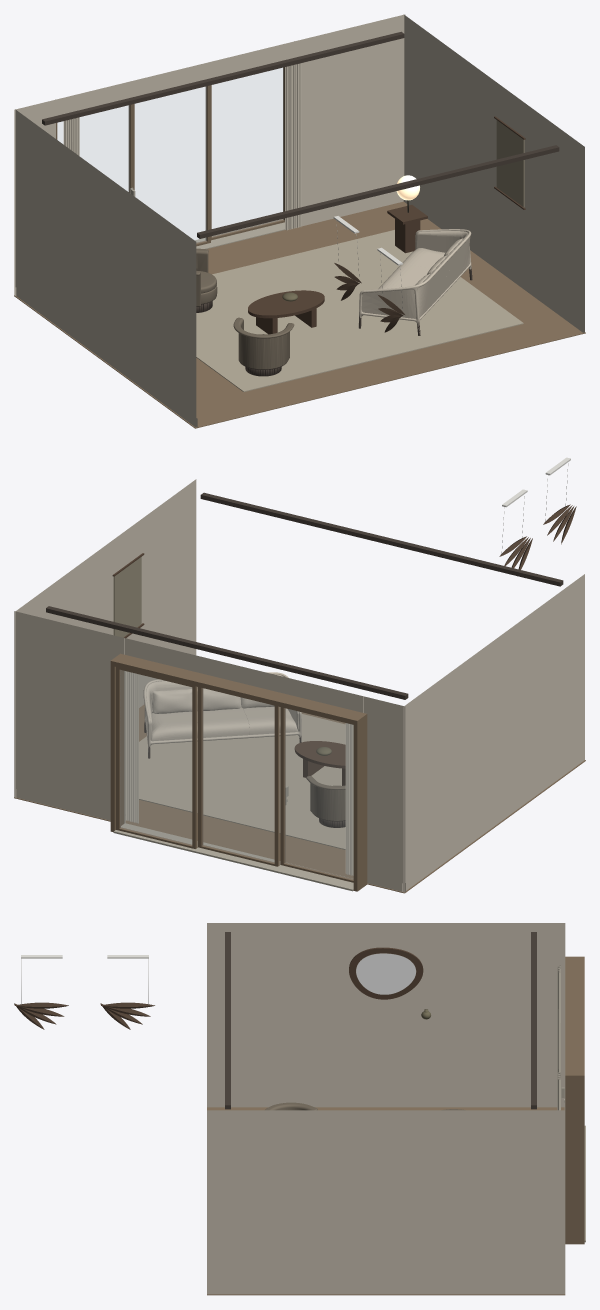
Rendered from great-1.glb.
3 renders of one model, top to bottom at view 1: azimuth 30°, elevation 25°; view 2: azimuth 150°, elevation 25°; view 3: azimuth 270°, elevation 25°, orthographic.
Visible parts, largest first — view 1: DESIGN | great removable wall finish, DESIGN | Great room primary ground, DESIGN | great floor finish, DESIGN | R10 lift-slide panel 3 glass, DESIGN | R10 lift-slide panel 2 glass, DESIGN | Great room sofa facing conversation, DESIGN | R10 lift-slide panel 1 glass, DESIGN | Retreat concealed light edge, DESIGN | Retreat concealed light edge.001, DESIGN | Great room soft window edge.001, DESIGN | Required Bellustar swivel chair one, DESIGN | Great room linen hanging (+6 smaller); view 2: DESIGN | great removable wall finish, DESIGN | Great room primary ground, DESIGN | R10 lift-slide panel 3 glass, DESIGN | R10 lift-slide panel 2 glass, DESIGN | R10 lift-slide panel 1 glass, DESIGN | Great room sofa facing conversation, DESIGN | great floor finish, DESIGN | R10 garden opening head, DESIGN | Retreat concealed light edge, DESIGN | Retreat concealed light edge.001, DESIGN | R10 garden opening jamb, DESIGN | R10 drained garden sill (+12 smaller); view 3: DESIGN | great removable wall finish, DESIGN | R10 garden opening jamb.001, DESIGN | R10 garden opening head, DESIGN | R10 Giolino study reflective surface, DESIGN | great floor finish, DESIGN | R10 Giolino-inspired walnut frame, DESIGN | Retreat concealed light edge, DESIGN | Retreat concealed light edge.001, DESIGN | Required Flou pendant 1, DESIGN | Required Flou pendant 2.
Part boxes in pixels (x1,y1,x2,y2): DESIGN | great removable wall finish: (14,14,584,427); DESIGN | Great room primary ground: (196,230,523,391); DESIGN | great floor finish: (14,201,585,428); DESIGN | R10 lift-slide panel 3 glass: (212,68,283,236); DESIGN | R10 lift-slide panel 2 glass: (135,86,206,242); DESIGN | Great room sofa facing conversation: (358,229,472,335); DESIGN | R10 lift-slide panel 1 glass: (57,105,129,192); DESIGN | Retreat concealed light edge: (197,145,559,238); DESIGN | Retreat concealed light edge.001: (42,31,404,125); DESIGN | Great room soft window edge.001: (285,63,301,230); DESIGN | Required Bellustar swivel chair one: (233,317,294,376); DESIGN | Great room linen hanging: (496,120,524,207); DESIGN | great removable wall finish: (14,479,584,892); DESIGN | Great room primary ground: (139,714,345,849); DESIGN | R10 lift-slide panel 3 glass: (120,670,191,845); DESIGN | R10 lift-slide panel 2 glass: (203,688,274,862); DESIGN | R10 lift-slide panel 1 glass: (285,708,353,879); DESIGN | Great room sofa facing conversation: (143,672,301,758); DESIGN | great floor finish: (14,704,585,893); DESIGN | R10 garden opening head: (110,653,367,725); DESIGN | Retreat concealed light edge: (200,492,563,586); DESIGN | Retreat concealed light edge.001: (46,606,408,699); DESIGN | R10 garden opening jamb: (353,716,367,891); DESIGN | R10 drained garden sill: (113,823,353,891); DESIGN | great removable wall finish: (207,923,565,1294); DESIGN | R10 garden opening jamb.001: (565,1077,584,1244); DESIGN | R10 garden opening head: (565,956,584,1080); DESIGN | R10 Giolino study reflective surface: (356,953,415,994); DESIGN | great floor finish: (207,1107,565,1295); DESIGN | R10 Giolino-inspired walnut frame: (349,947,423,999); DESIGN | Retreat concealed light edge: (225,932,230,1109); DESIGN | Retreat concealed light edge.001: (531,932,536,1109); DESIGN | Required Flou pendant 1: (14,1002,68,1029); DESIGN | Required Flou pendant 2: (100,1002,154,1029).
Size of the model in its own units: 6 by 3.04 by 7.7.
